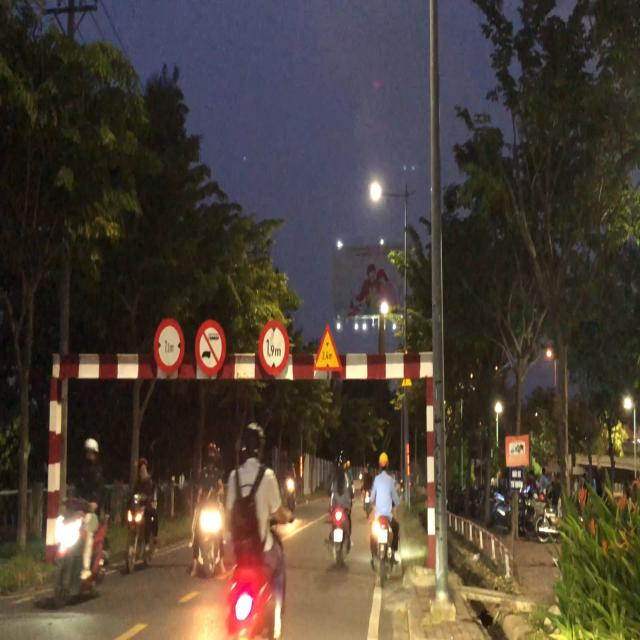Bien bao cam xe oto khach va xe oto tai: (193, 312, 227, 382)
Bien bao chieu cao tinh khong thuc te: (314, 320, 340, 376)
Bien bao han che chieu cao: (259, 316, 291, 380)
